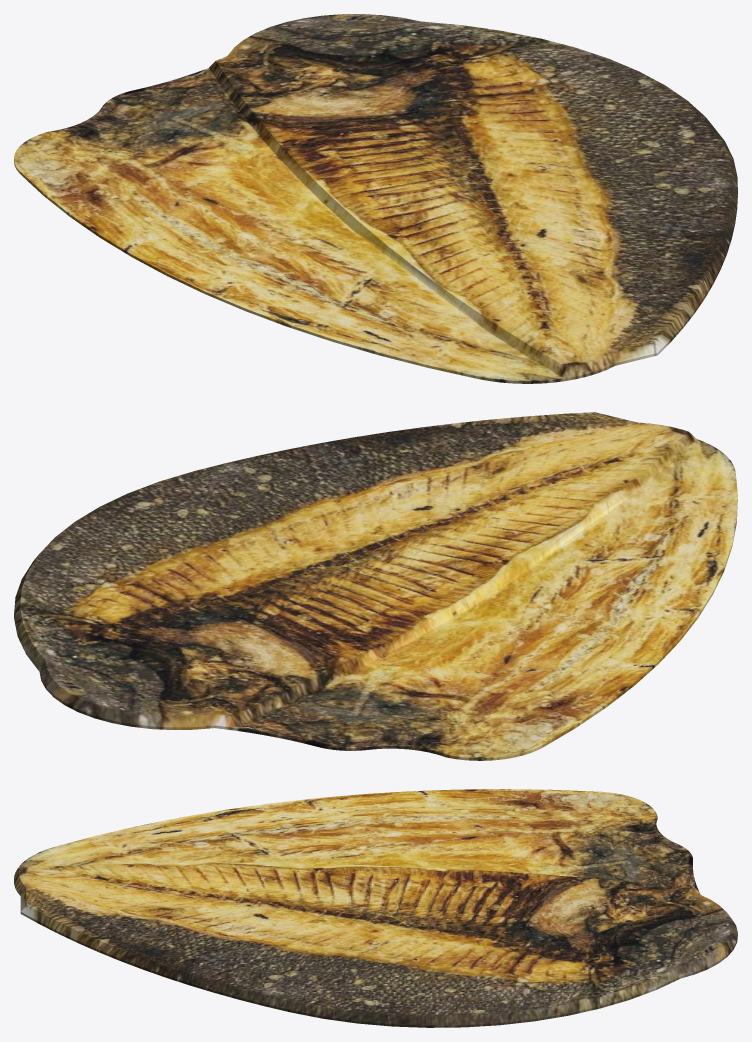
The model's file is Halibut.fbx.
3 renders of one model, top to bottom at view 1: azimuth 30°, elevation 25°; view 2: azimuth 150°, elevation 25°; view 3: azimuth 270°, elevation 25°, orthographic. The views are drawn at different scales.
Parts seen in each view (by area): view 1: Group1; view 2: Group1; view 3: Group1.
Boxes of the visible parts, <box> form: Group1: <box>14,14,737,383</box>; Group1: <box>14,412,737,760</box>; Group1: <box>14,789,737,1027</box>.
Bounding box in the file's own units: 28.71 × 0.5 × 37.13.
